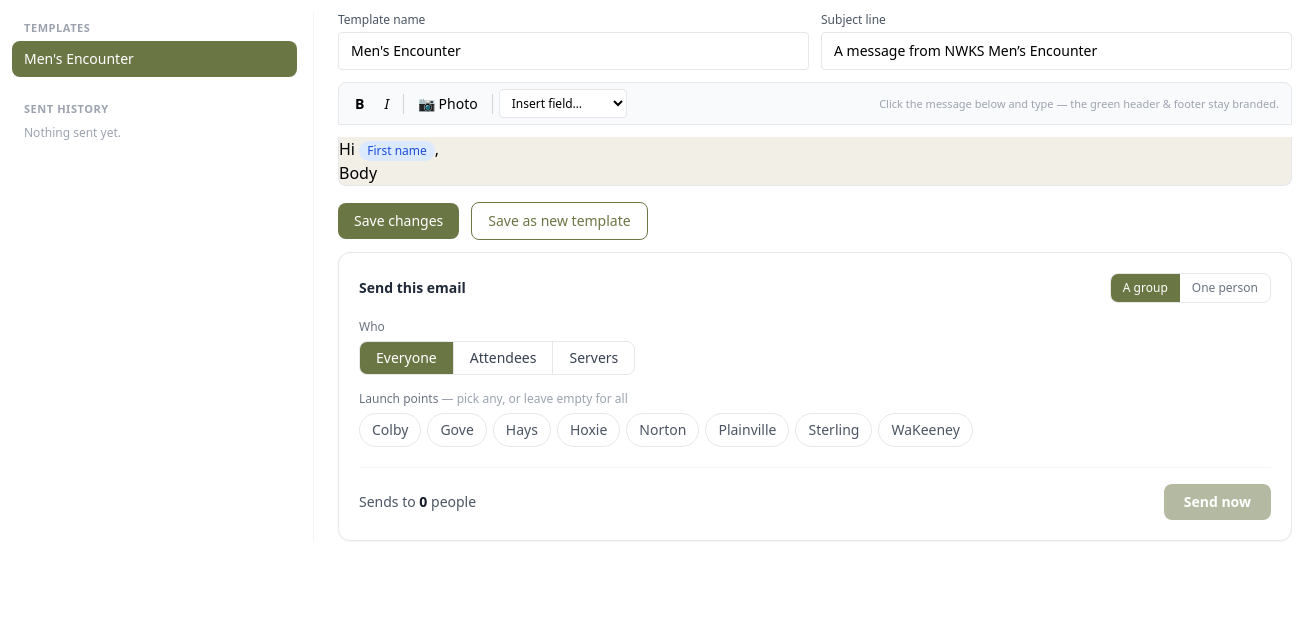
Test: TemplateEditor › creates a new template via POST when "Save as new template" is used
Check: the field showing "A message from NWKS Men" is shown, box [821,32,1292,70]
Click the button "Save as new template" at (560, 221), box [471,202,648,240]
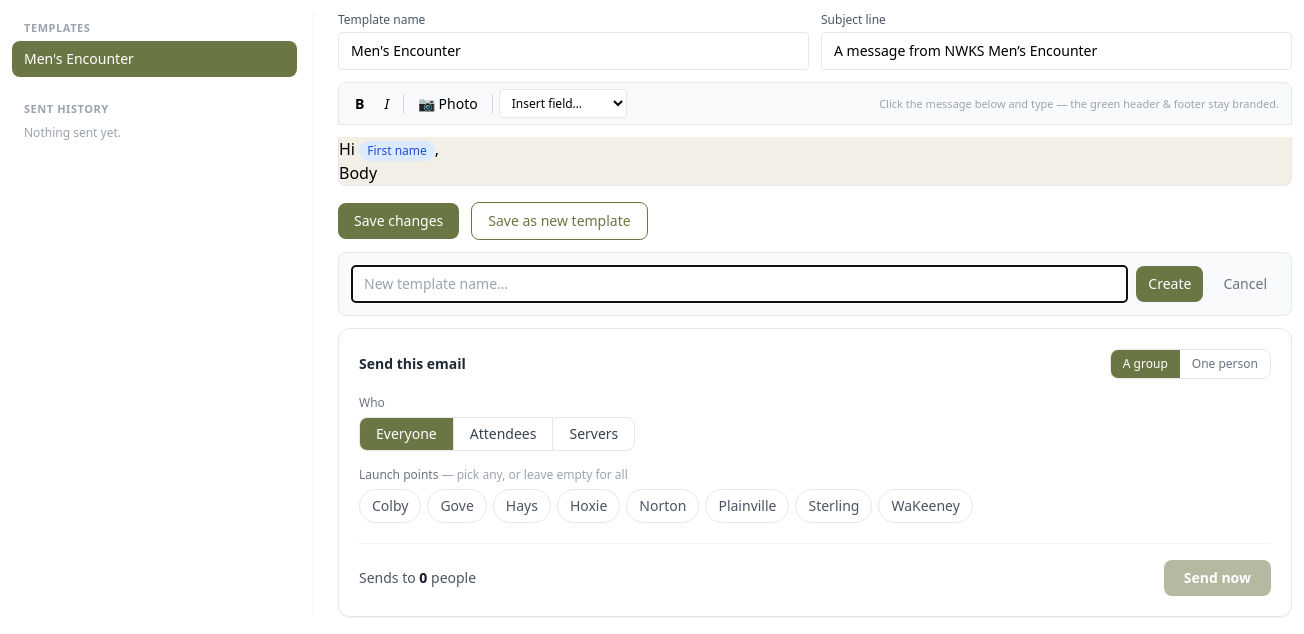
Type "My New Email" into the field labelled "New template name…" at (740, 284), box [351,265,1128,303]
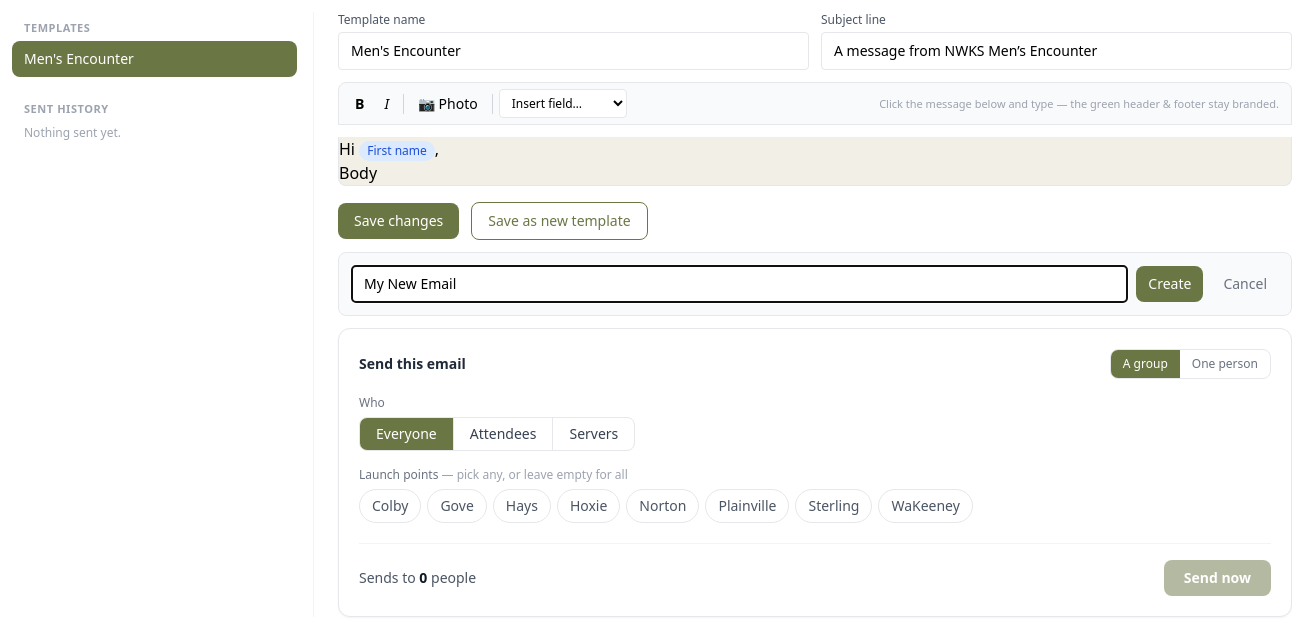
Click the button "Create" at (1170, 284), box [1136,266,1203,302]
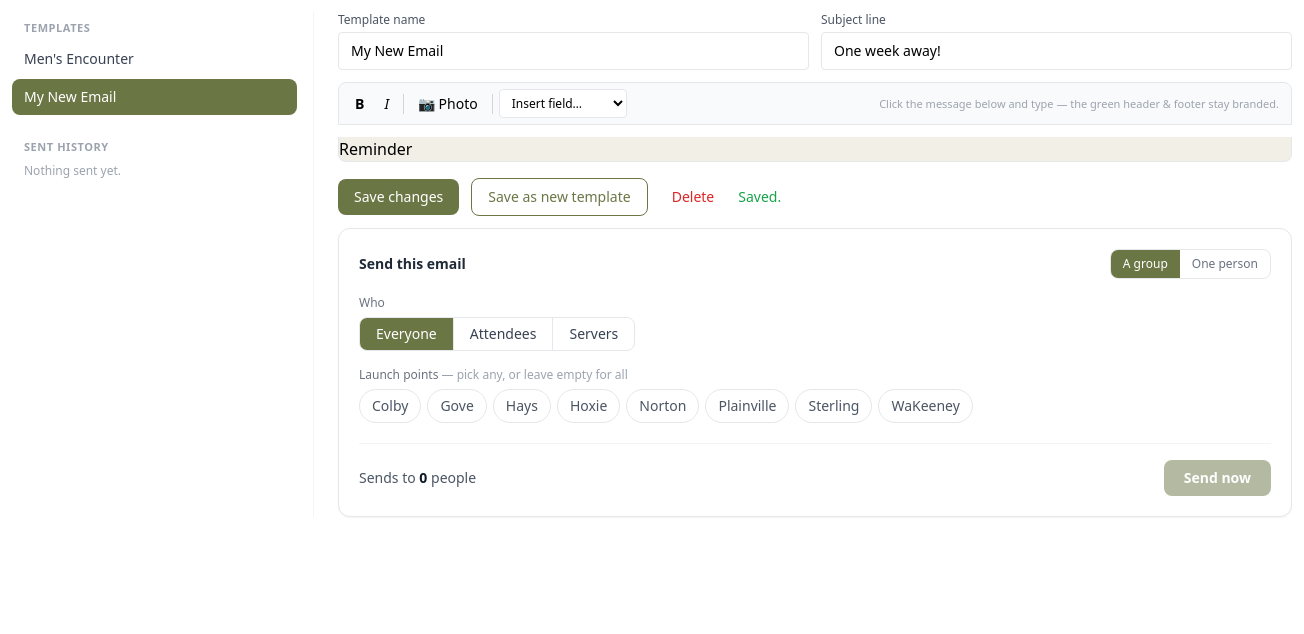
Check: the text "My New Email" is shown, box [24,86,116,106]
